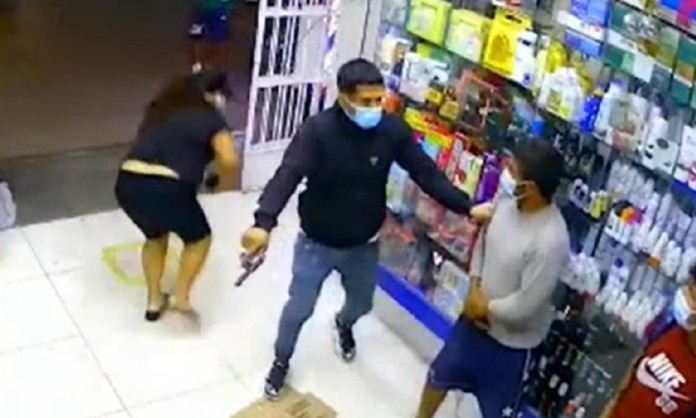Arma: (234, 225, 271, 290)
